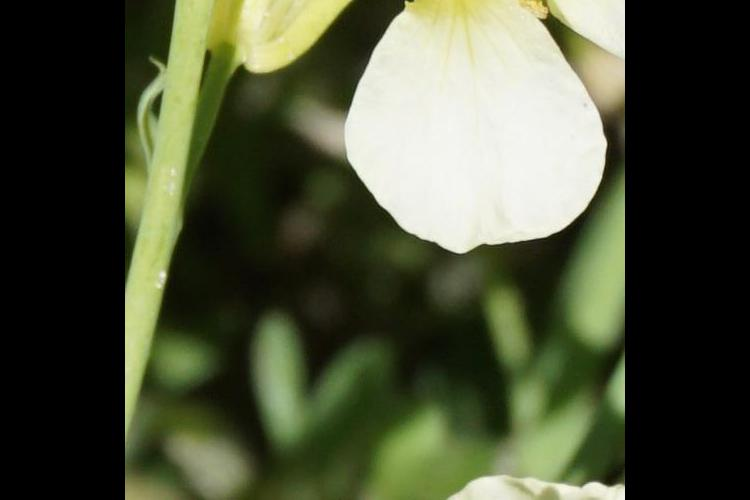white: (249, 1, 616, 265)
